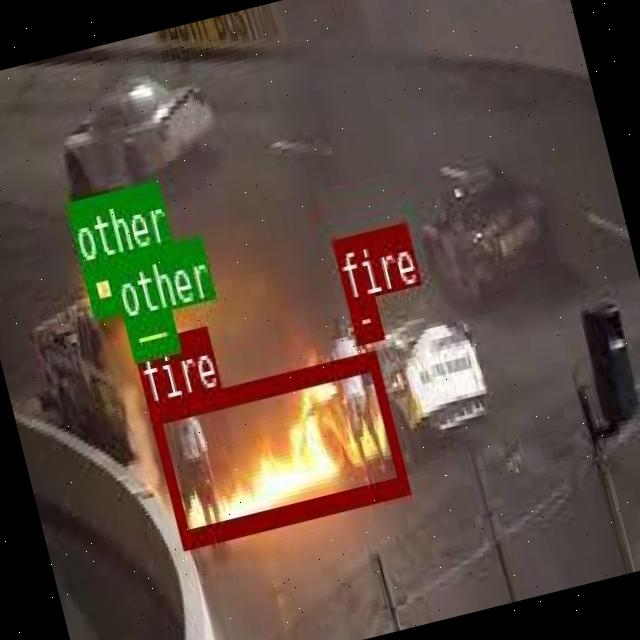fire: (146, 348, 407, 544), (346, 294, 380, 339)
